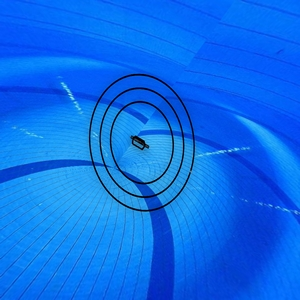circle: (84, 72, 204, 214)
submarine: (127, 133, 161, 154)
